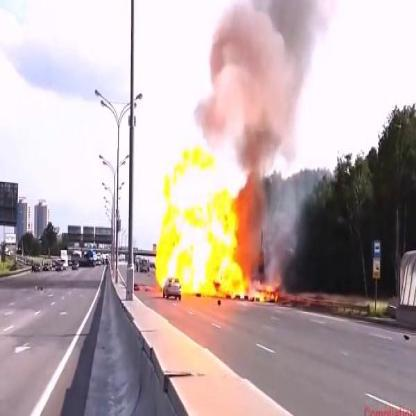fire: (154, 141, 250, 301), (255, 276, 280, 306)
